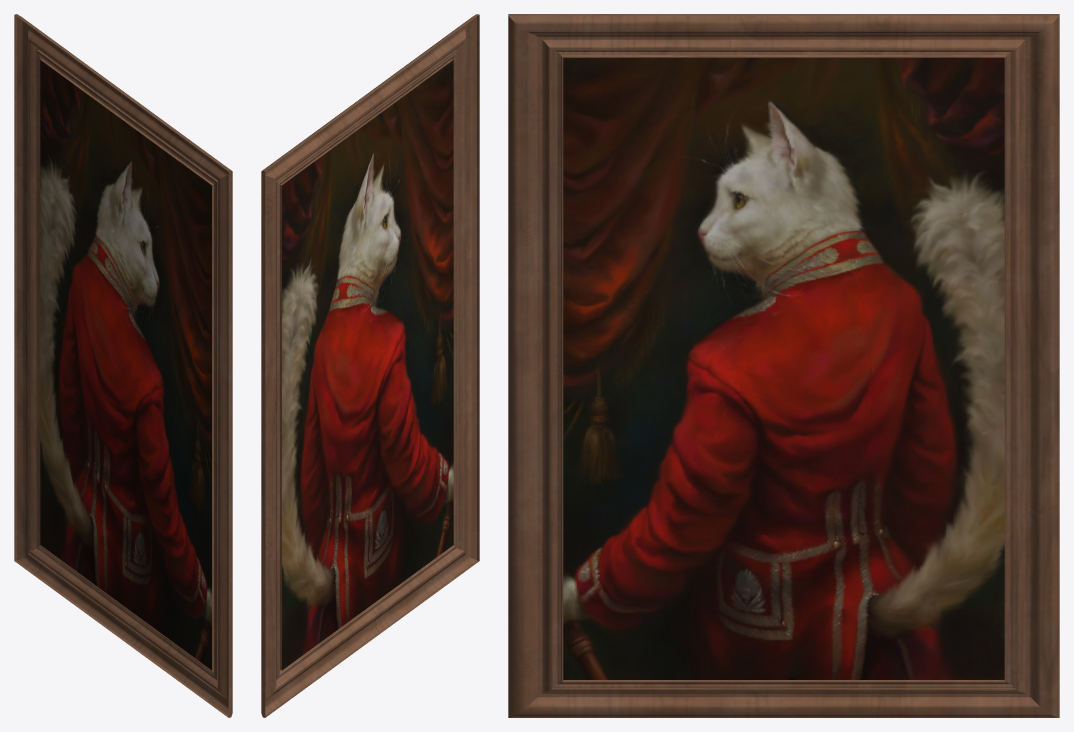
Rendered from Big_tab.fbx.
3 views of the same model, side by side, from view 1: azimuth 30°, elevation 25°; view 2: azimuth 150°, elevation 25°; view 3: azimuth 270°, elevation 25° (orthographic). The views are drawn at different scales.
Parts seen in each view (by area): view 1: Asset_Tableau_Moulure_B_low1; view 2: Asset_Tableau_Moulure_B_low1; view 3: Asset_Tableau_Moulure_B_low1.
Part boxes in pixels (x1,y1,x2,y2): Asset_Tableau_Moulure_B_low1: (14, 14, 232, 717); Asset_Tableau_Moulure_B_low1: (261, 14, 479, 717); Asset_Tableau_Moulure_B_low1: (508, 14, 1059, 717).
Size of the model in its own units: 13.49 by 942 by 670.
1 material, 1 textured.
